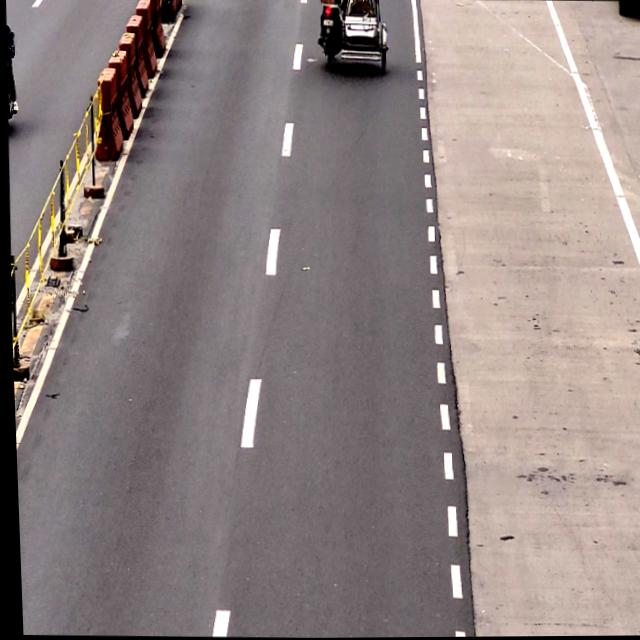Car: (318, 0, 391, 70)
